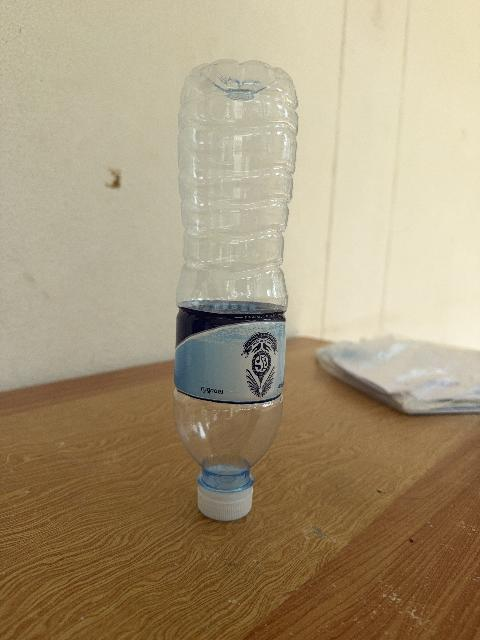bottle: (173, 60, 296, 520)
